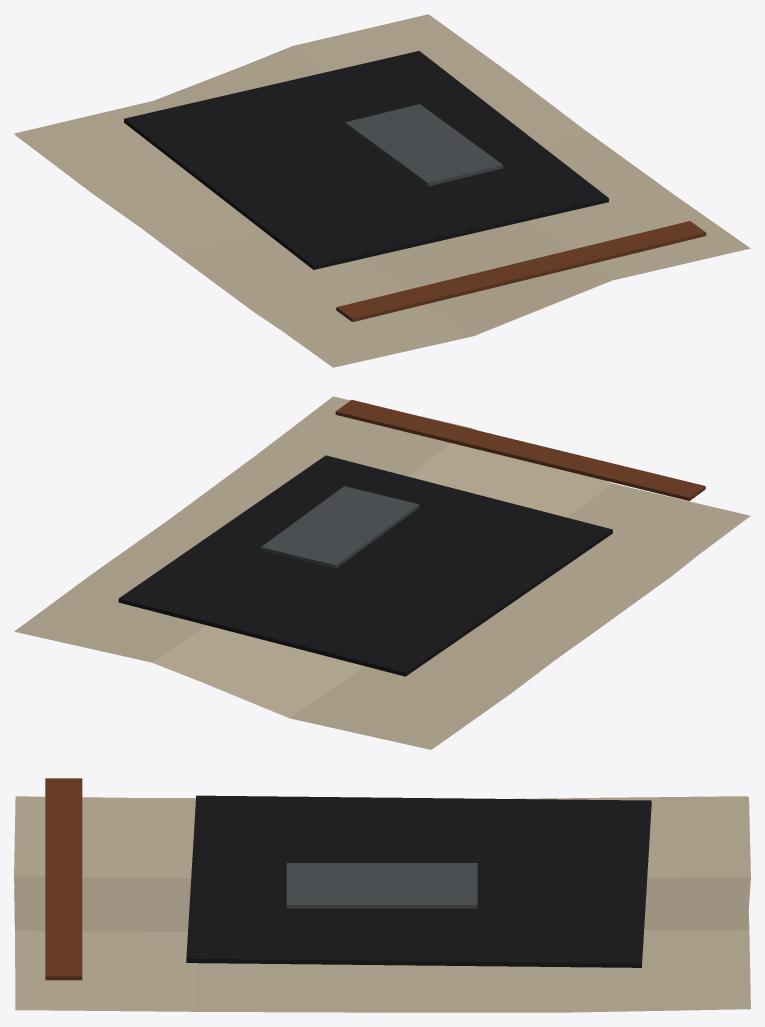
The model's file is personal_photo_b.glb.
3 renders of one model, top to bottom at view 1: azimuth 30°, elevation 25°; view 2: azimuth 150°, elevation 25°; view 3: azimuth 270°, elevation 25°, orthographic. The views are drawn at different scales.
Visible parts, largest first — view 1: personal_photo_b; view 2: personal_photo_b; view 3: personal_photo_b.
Boxes of the visible parts, bbox=[...] form: personal_photo_b: bbox=[14, 14, 750, 367]; personal_photo_b: bbox=[14, 396, 750, 749]; personal_photo_b: bbox=[14, 778, 750, 1012].
Size of the model in its own units: 0.0906 by 0.0104 by 0.1204.
